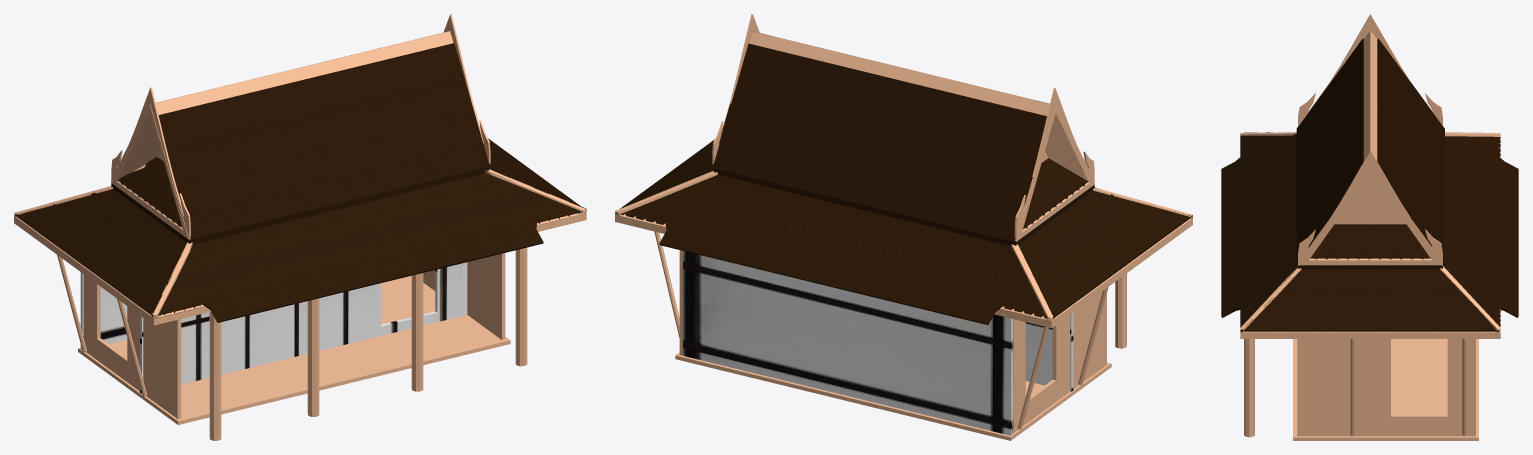
The model's file is Japanese House 1.fbx.
The picture shows the model from 3 angles, left to right: view 1: azimuth 30°, elevation 25°; view 2: azimuth 150°, elevation 25°; view 3: azimuth 270°, elevation 25°; orthographic projection. The views are drawn at different scales.
Visible parts, largest first — view 1: Thai_house; view 2: Thai_house; view 3: Thai_house.
Boxes of the visible parts, <box> form: Thai_house: <box>14,14,586,440</box>; Thai_house: <box>615,14,1192,440</box>; Thai_house: <box>1221,14,1518,440</box>.
Bounding box in the file's own units: 1254 × 838 × 799.
